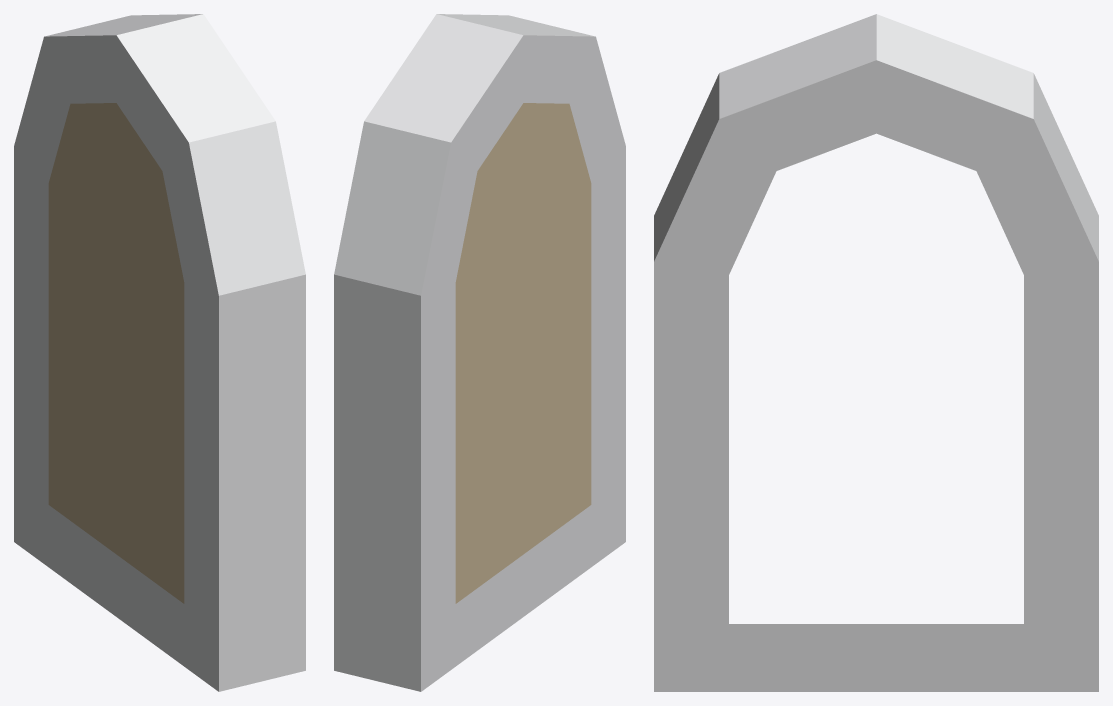
The model's file is Iron_Door_01.glb.
3 renders of one model, left to right at view 1: azimuth 30°, elevation 25°; view 2: azimuth 150°, elevation 25°; view 3: azimuth 270°, elevation 25°, orthographic. The views are drawn at different scales.
Parts seen in each view (by area): view 1: Mesh1 Iron_Door Model; view 2: Mesh1 Iron_Door Model; view 3: Mesh1 Iron_Door Model.
Boxes of the visible parts, <box> form: Mesh1 Iron_Door Model: <box>14,14,305,691</box>; Mesh1 Iron_Door Model: <box>334,14,625,691</box>; Mesh1 Iron_Door Model: <box>654,14,1098,691</box>.
Bounding box in the file's own units: 0.3 × 1.92 × 1.22.
